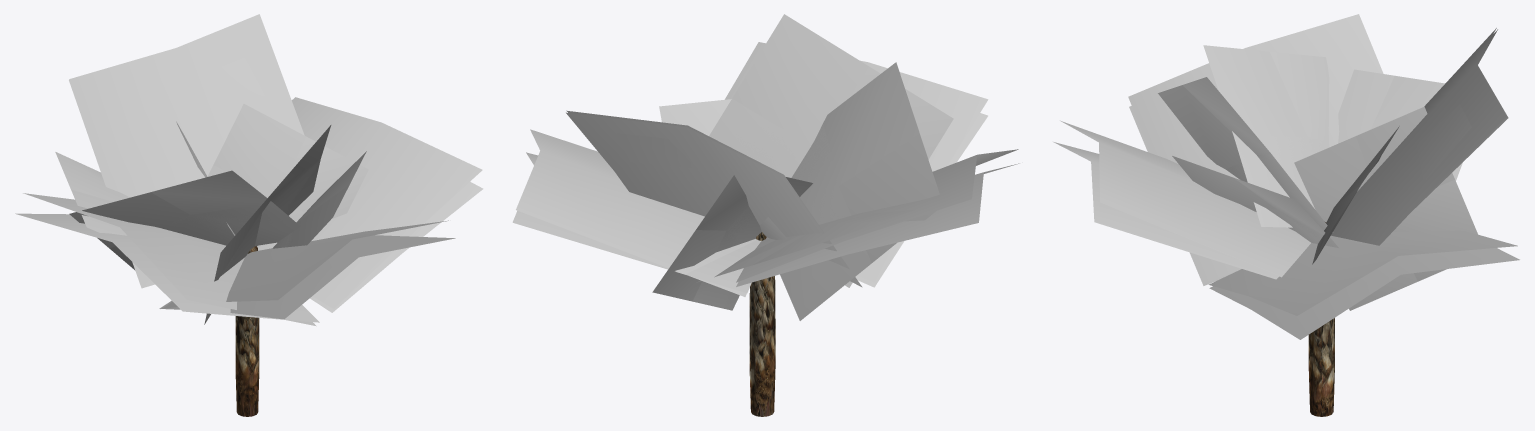
The model's file is palm_tree_12_LOD0.FBX.
3 renders of one model, left to right at view 1: azimuth 30°, elevation 25°; view 2: azimuth 150°, elevation 25°; view 3: azimuth 270°, elevation 25°, orthographic. The views are drawn at different scales.
Parts seen in each view (by area): view 1: leaves, bark; view 2: leaves, bark; view 3: leaves, bark.
Boxes of the visible parts, x1,y1,x2,y2 form: leaves: (15,14,483,326); bark: (235,246,259,416); leaves: (512,14,1019,320); bark: (749,232,775,416); leaves: (1053,14,1519,339); bark: (1308,222,1334,416).
Bounding box in the file's own units: 4.14 × 3.44 × 2.85.
